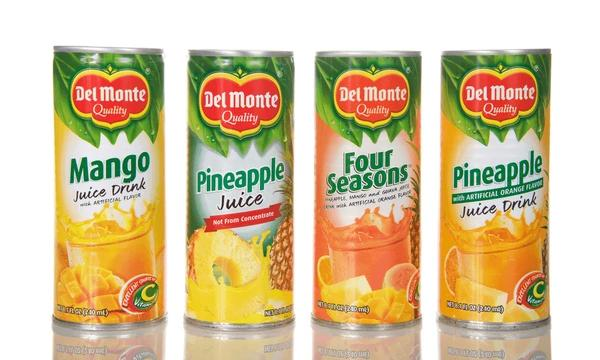can: (439, 51, 550, 328), (54, 47, 162, 328), (313, 51, 420, 324), (185, 50, 291, 325)
